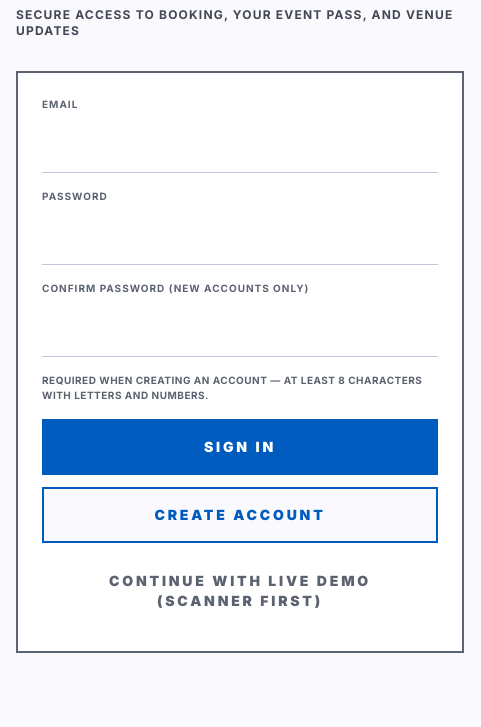
Scenario: Login › shows error when anonymous demo sign-in fails
The width and height of the screenshot is (481, 727).
Click the button "Continue with live demo (scanner first)" at (240, 591), box [42,555,438,627]
(page scrolled)
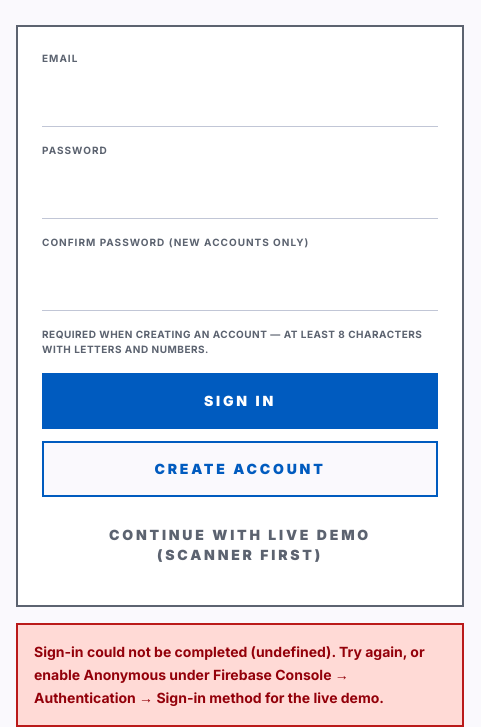
Now the message is shown, box [16,623,464,726]
